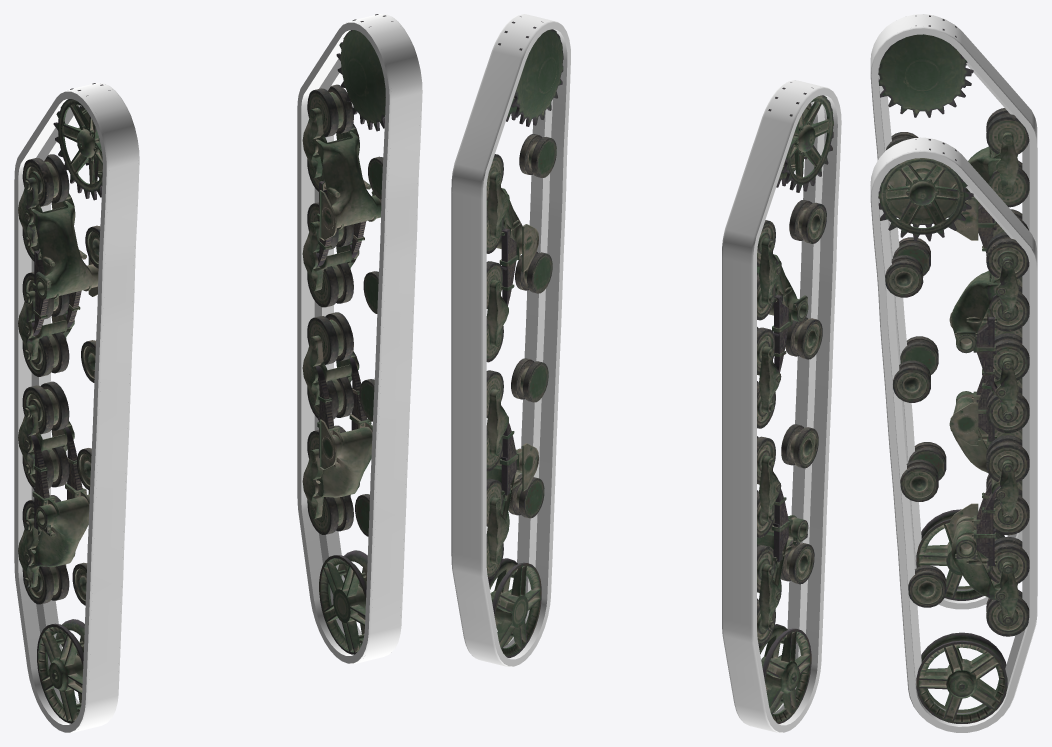
Rendered from Chassis.glb.
3 renders of one model, left to right at view 1: azimuth 30°, elevation 25°; view 2: azimuth 150°, elevation 25°; view 3: azimuth 270°, elevation 25°, orthographic. The views are drawn at different scales.
Visible parts, largest first — view 1: set_1_group_0, set_0_group_0, set_3_group_0, set_2_group_0; view 2: set_0_group_0, set_1_group_0, set_3_group_0, set_2_group_0; view 3: set_3_group_0, set_2_group_0, set_1_group_0, set_0_group_0.
Boxes of the visible parts, x1=… form: set_1_group_0: x1=297, y1=14, x2=422, y2=663; set_0_group_0: x1=14, y1=83, x2=139, y2=732; set_3_group_0: x1=302, y1=14, x2=393, y2=654; set_2_group_0: x1=18, y1=83, x2=110, y2=723; set_0_group_0: x1=722, y1=80, x2=841, y2=732; set_1_group_0: x1=451, y1=14, x2=570, y2=666; set_3_group_0: x1=486, y1=16, x2=563, y2=657; set_2_group_0: x1=757, y1=82, x2=833, y2=723; set_3_group_0: x1=878, y1=139, x2=1029, y2=723; set_2_group_0: x1=878, y1=15, x2=1029, y2=600; set_1_group_0: x1=870, y1=137, x2=1037, y2=732; set_0_group_0: x1=870, y1=14, x2=1037, y2=609.
Size of the model in its own units: 2.45 by 4.48 by 1.16.
Materials: 4 (2 with a texture image).
